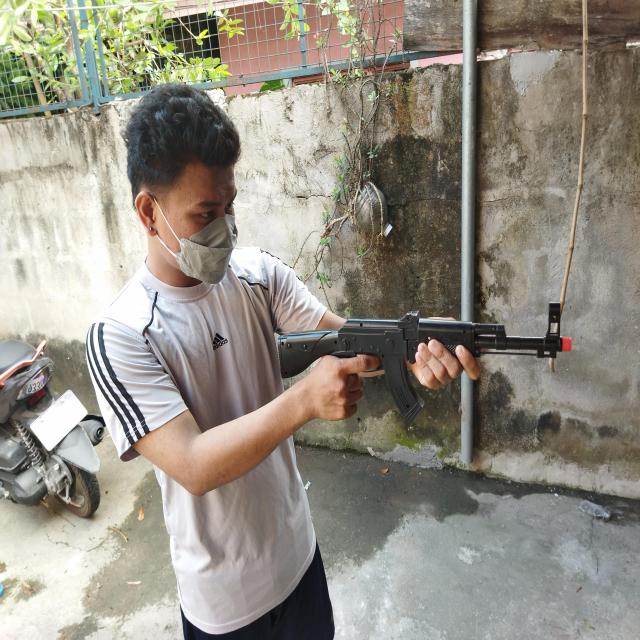rifle: (276, 296, 575, 424)
